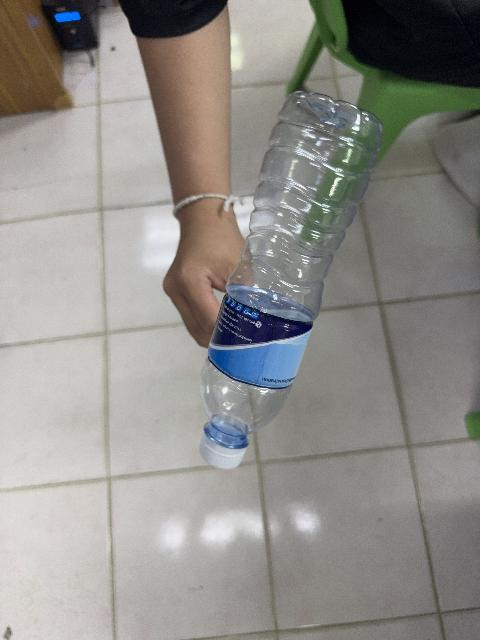bottle: (200, 92, 381, 468)
